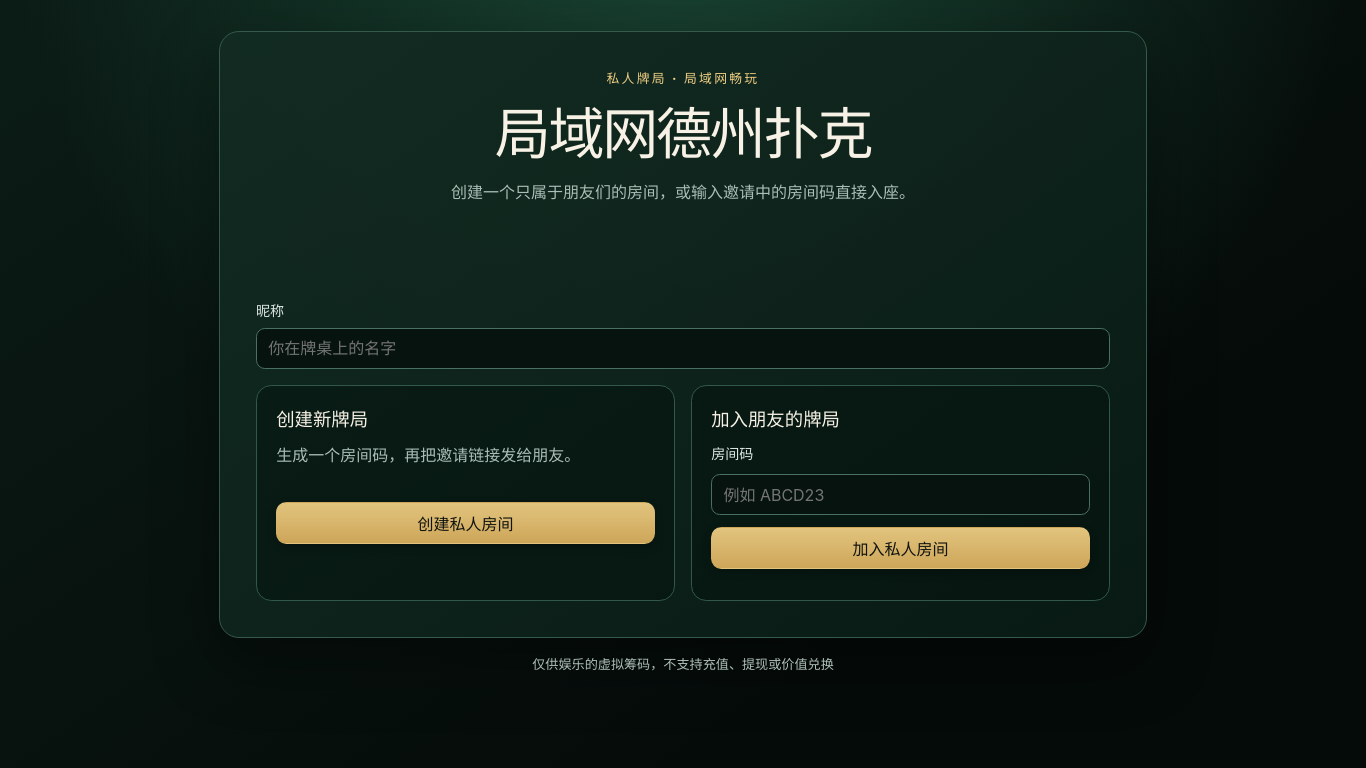
Test case: confirmed room exit navigation › requires confirmation, warns about an immediate fold, and restores focus on cancel
In the field labelled "昵称": (683, 348) [256,328,1110,369], type "房主"
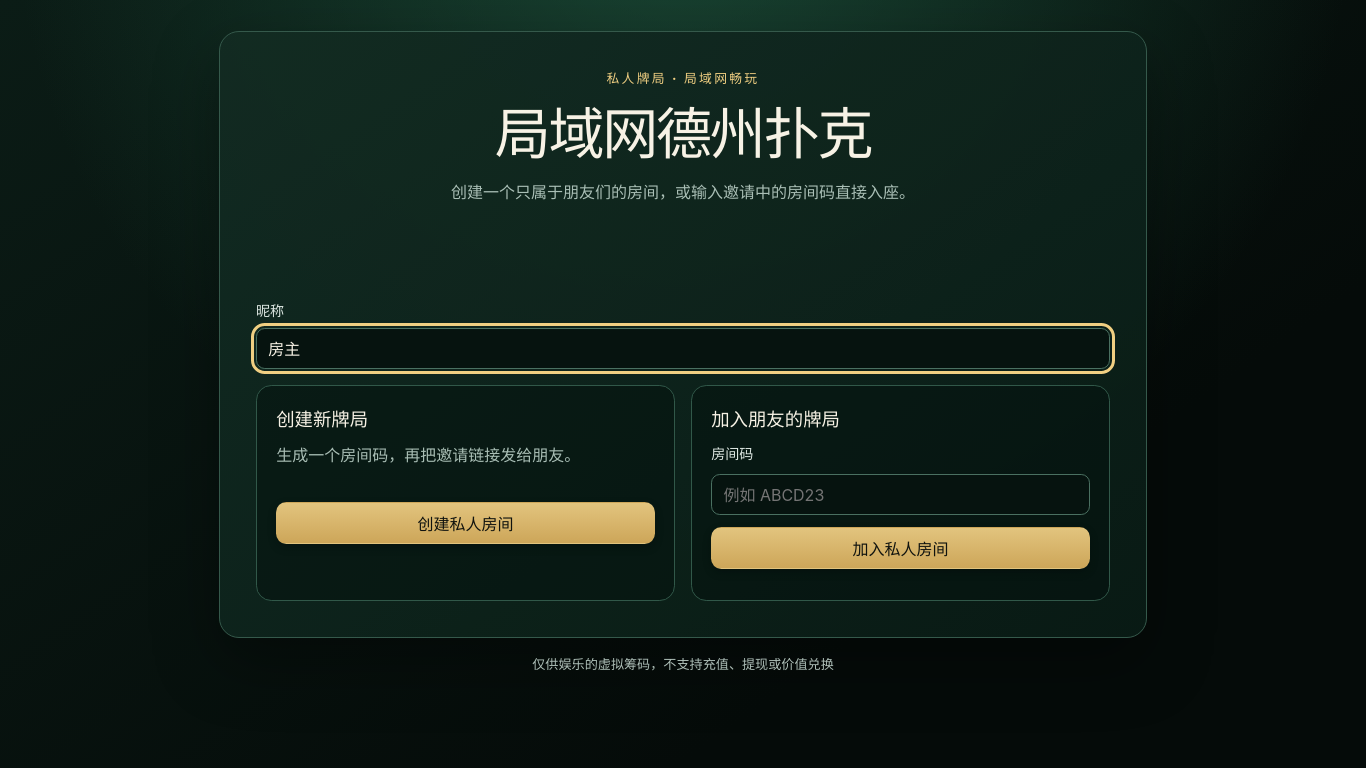
Click the button "创建私人房间": (466, 523) [276,502,655,544]
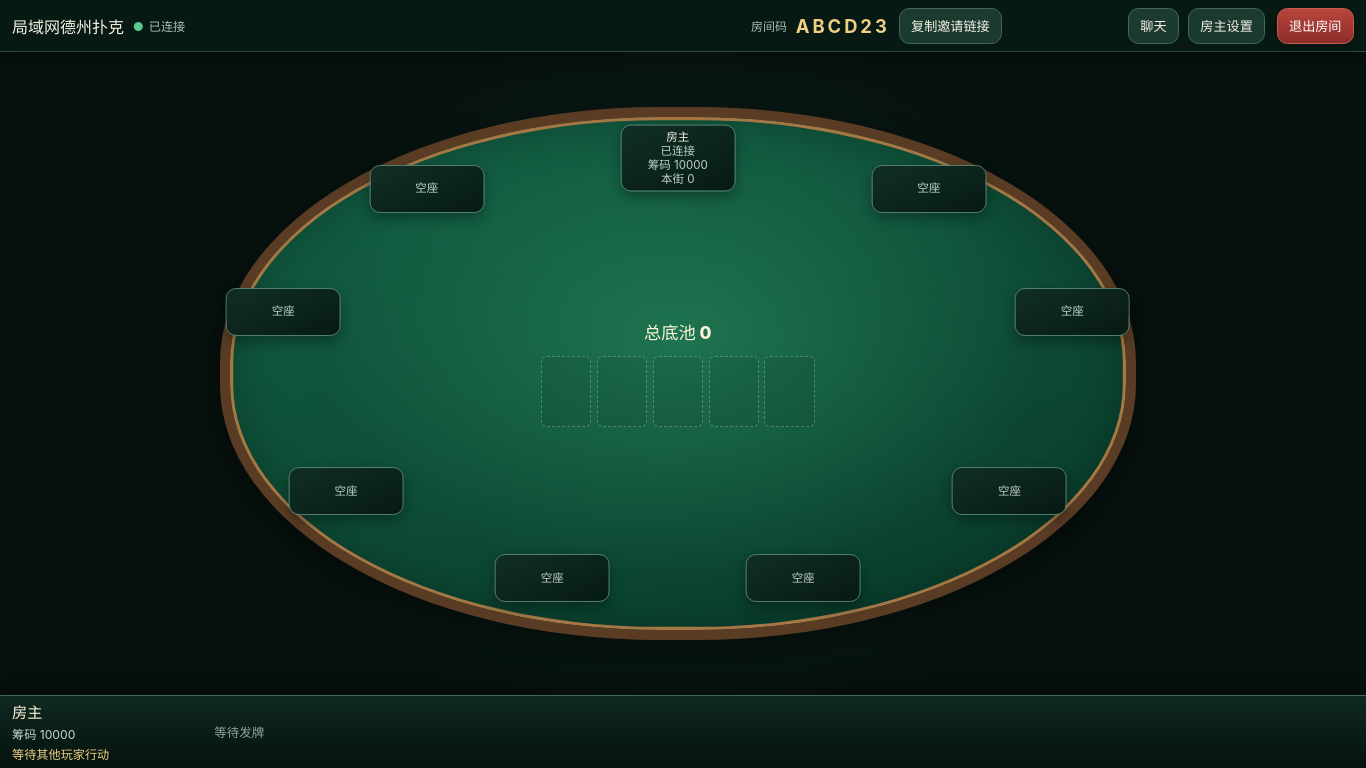
Expected: the text "ABCD23" is shown, [796,14,890,36]
Expected: the button "退出房间" is shown
Click the button "退出房间": (1315, 26) [1276,8,1354,44]
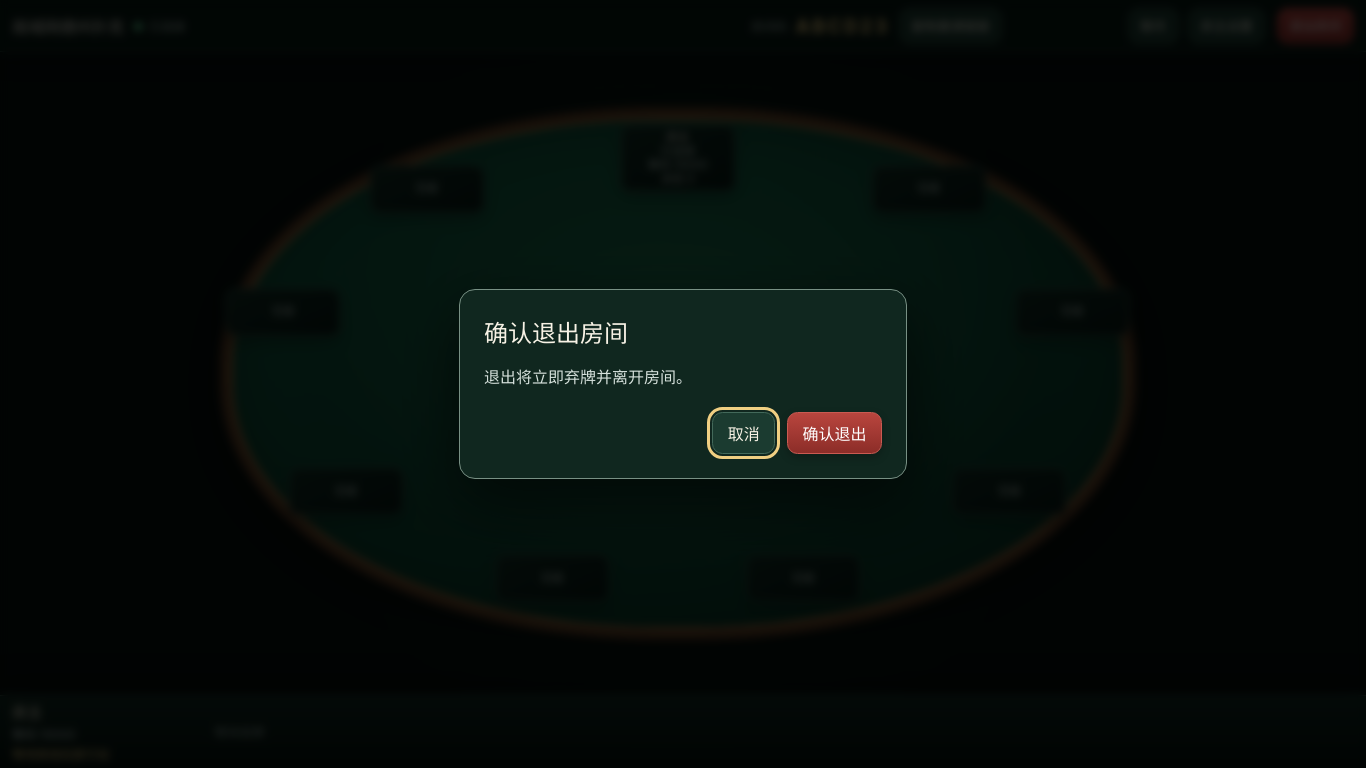
Expected: the text "退出将立即弃牌并离开房间。" is shown, [484,366,692,386]
Press Shift+Tab
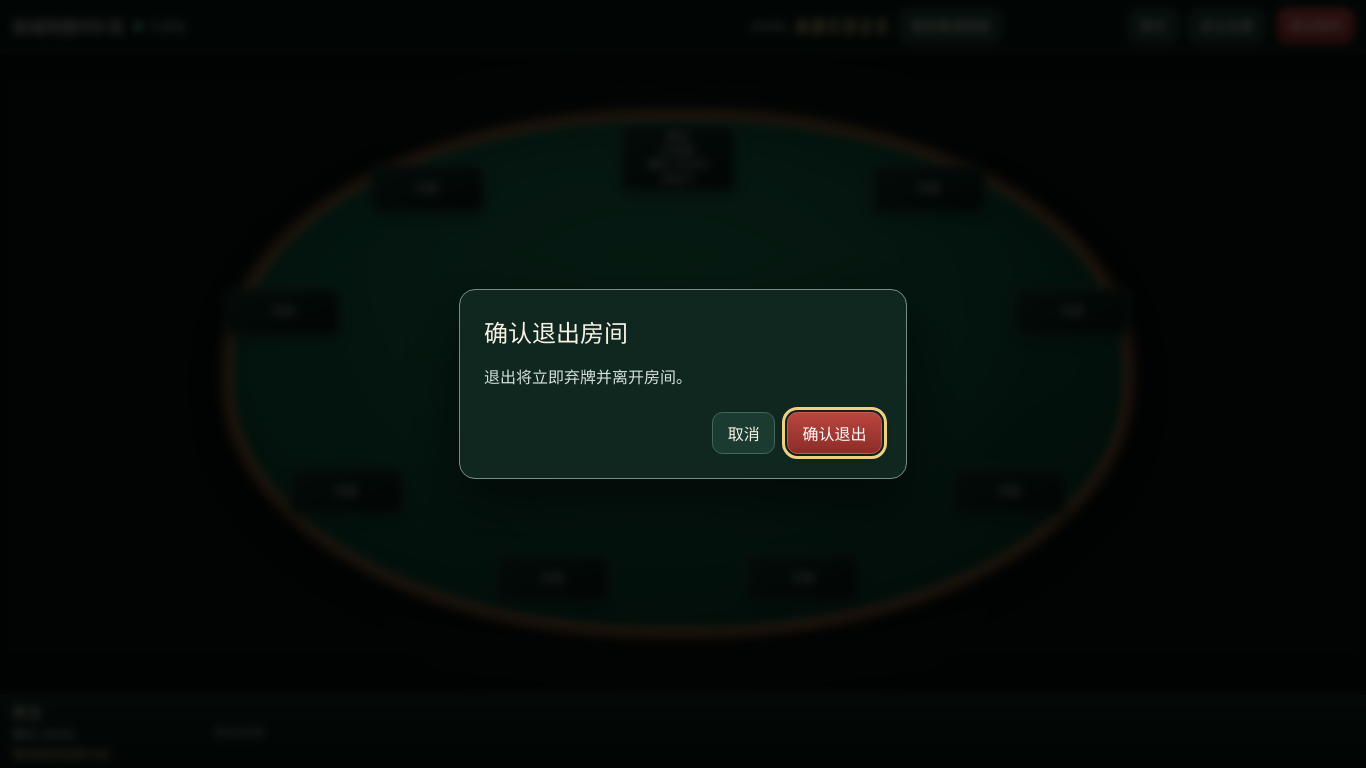
Press Tab
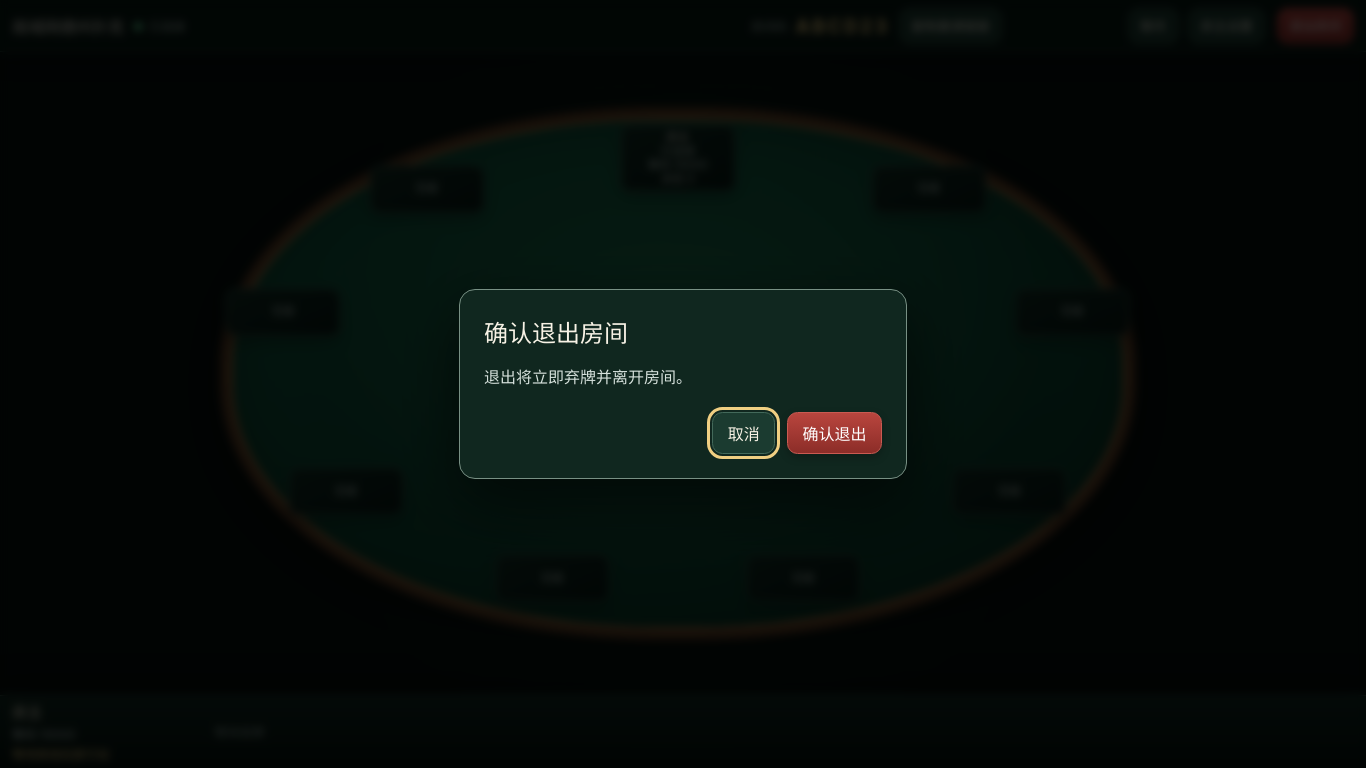
Click the button "取消": (744, 434) [712,412,775,454]
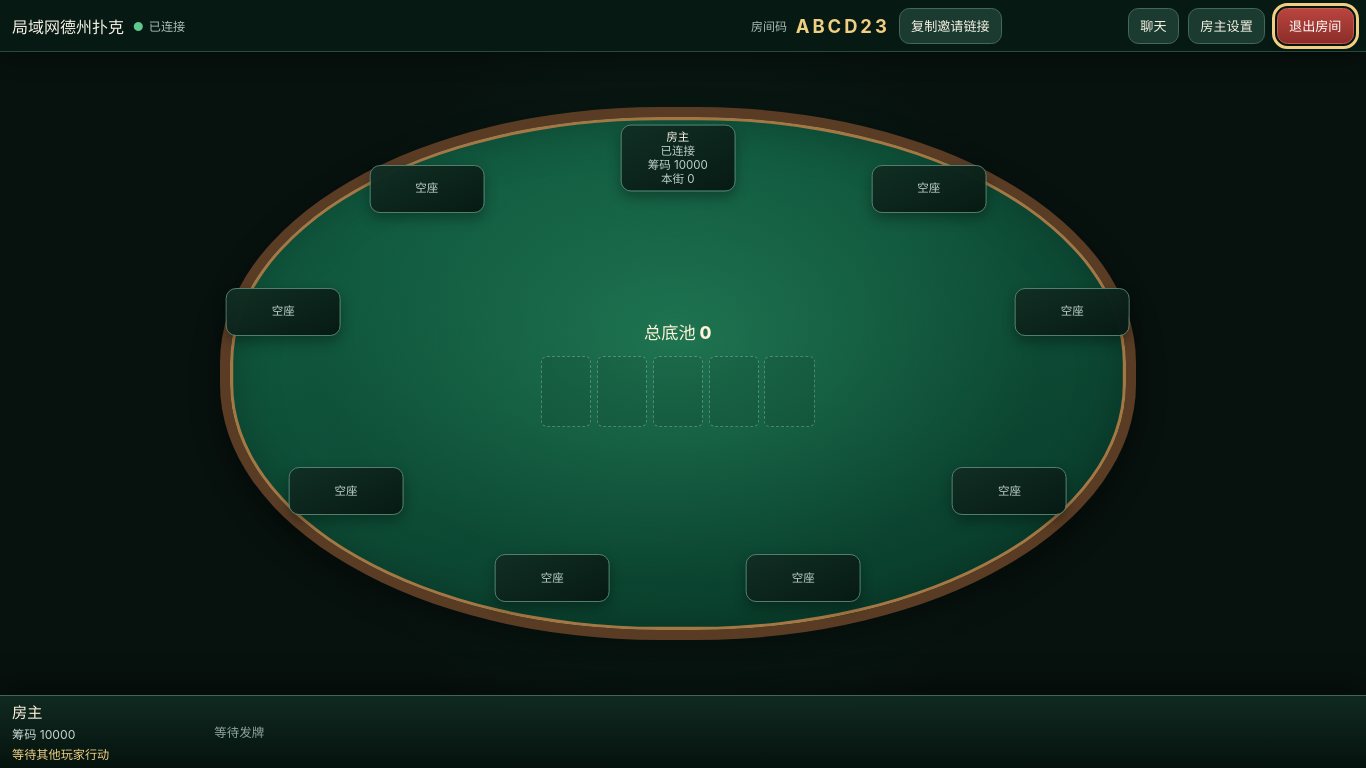
Expected: the dialog is gone
